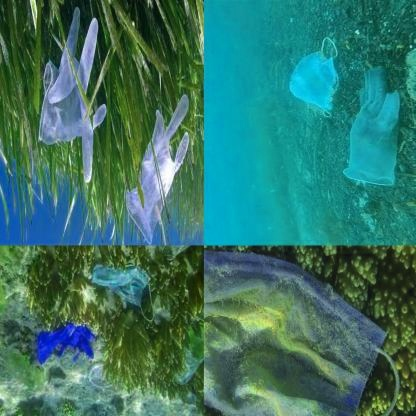Mask: (204, 245, 416, 416), (88, 262, 162, 334), (286, 32, 338, 118)
glove: (39, 5, 108, 184), (124, 84, 190, 243), (345, 66, 405, 188), (29, 320, 100, 368), (58, 355, 116, 398)
